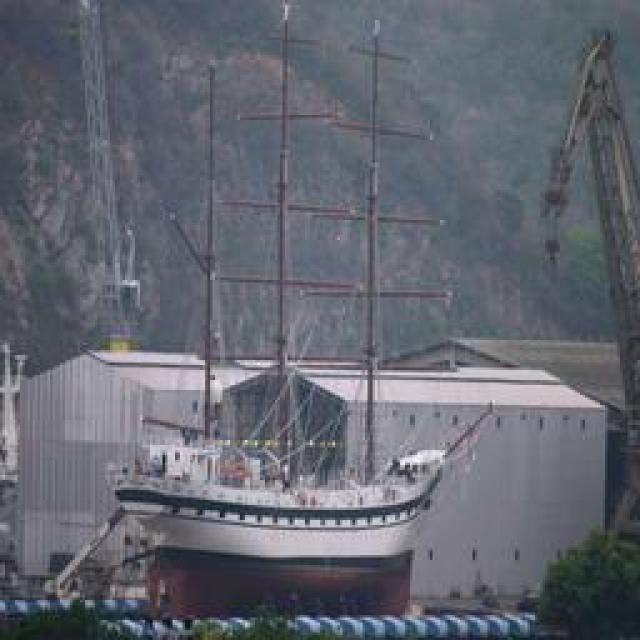Ship: (116, 411, 466, 601)
